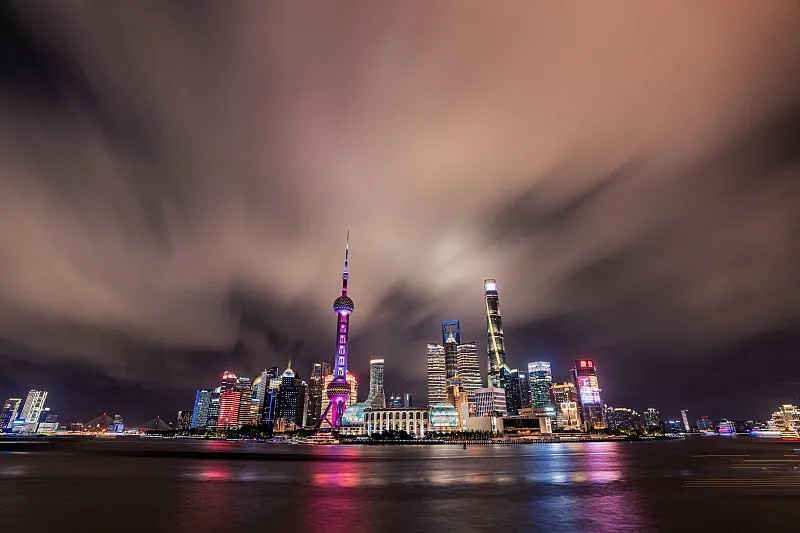Oriental: (313, 226, 355, 431)
